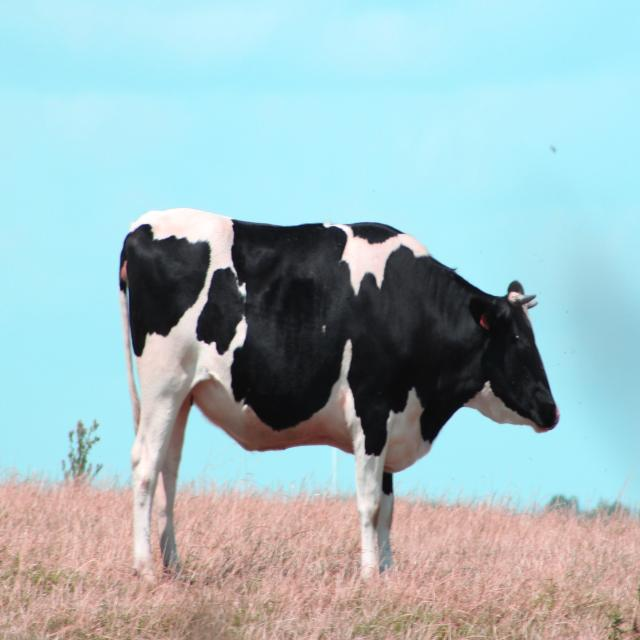cow: (120, 210, 559, 577)
